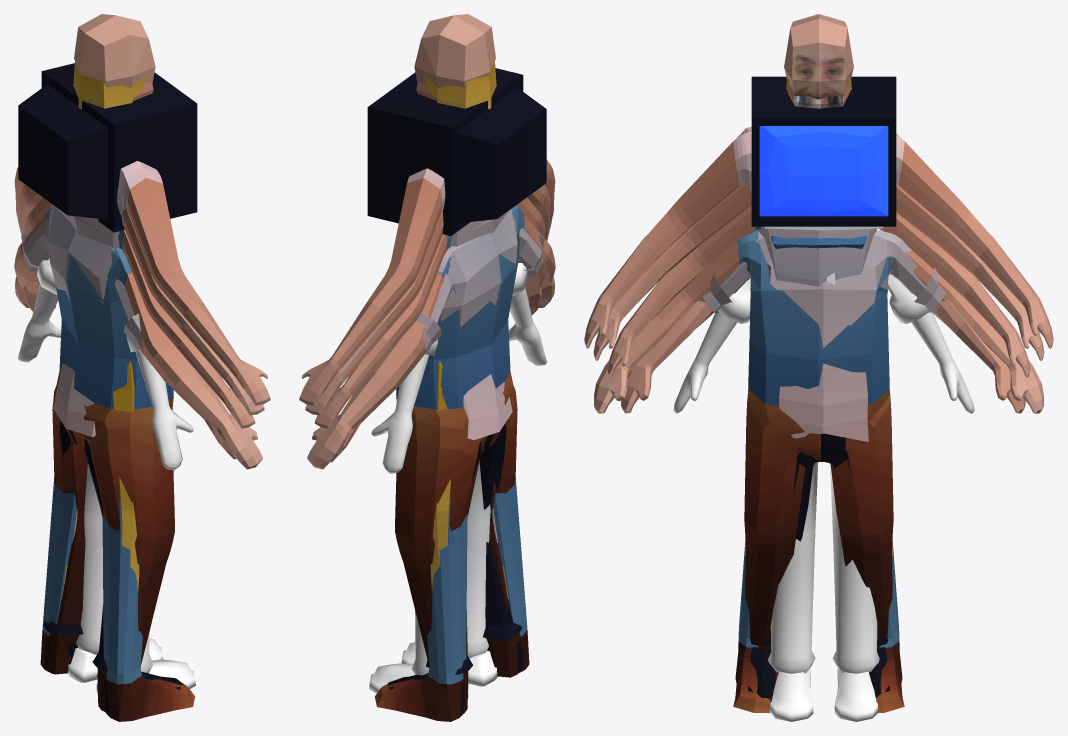
The model's file is boby.glb.
3 renders of one model, left to right at view 1: azimuth 30°, elevation 25°; view 2: azimuth 150°, elevation 25°; view 3: azimuth 270°, elevation 25°, orthographic.
Parts seen in each view (by area): view 1: Man_B, man_A, Cube.001, B0by_Body, woman_A, Cube.004, woman_B, Cube.003; view 2: Man_B, man_A, Cube.001, B0by_Body, Cube.004, woman_A, Cube.003, woman_B; view 3: Man_B, man_A, Cube.001, B0by_Body, Cube.004, woman_B, woman_A, Cube.003.
Boxes of the visible parts, x1=… form: Man_B: x1=14, y1=207, x2=262, y2=714; man_A: x1=14, y1=14, x2=270, y2=721; Cube.001: x1=18, y1=63, x2=197, y2=232; B0by_Body: x1=17, y1=258, x2=195, y2=695; woman_A: x1=18, y1=49, x2=264, y2=598; Cube.004: x1=21, y1=205, x2=142, y2=436; woman_B: x1=24, y1=197, x2=255, y2=689; Cube.003: x1=22, y1=267, x2=235, y2=711; Man_B: x1=307, y1=206, x2=555, y2=714; man_A: x1=299, y1=14, x2=555, y2=721; Cube.001: x1=367, y1=68, x2=546, y2=235; B0by_Body: x1=369, y1=263, x2=546, y2=697; Cube.004: x1=416, y1=209, x2=544, y2=440; woman_A: x1=305, y1=49, x2=551, y2=598; Cube.003: x1=331, y1=265, x2=545, y2=714; woman_B: x1=314, y1=197, x2=545, y2=689; Man_B: x1=594, y1=230, x2=1043, y2=648; man_A: x1=584, y1=14, x2=1053, y2=712; Cube.001: x1=751, y1=76, x2=896, y2=226; B0by_Body: x1=673, y1=228, x2=974, y2=721; Cube.004: x1=702, y1=229, x2=945, y2=441; woman_B: x1=607, y1=205, x2=1030, y2=699; woman_A: x1=593, y1=79, x2=1044, y2=701; Cube.003: x1=621, y1=299, x2=1025, y2=683.
Bounding box in the file's own units: 0.4225 × 1.99 × 1.26.
3 materials, 1 textured.
